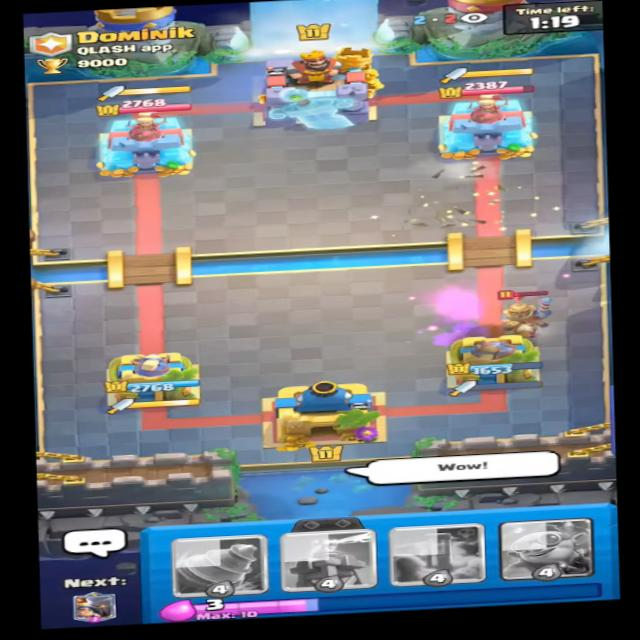Prince: (486, 286, 555, 344)
